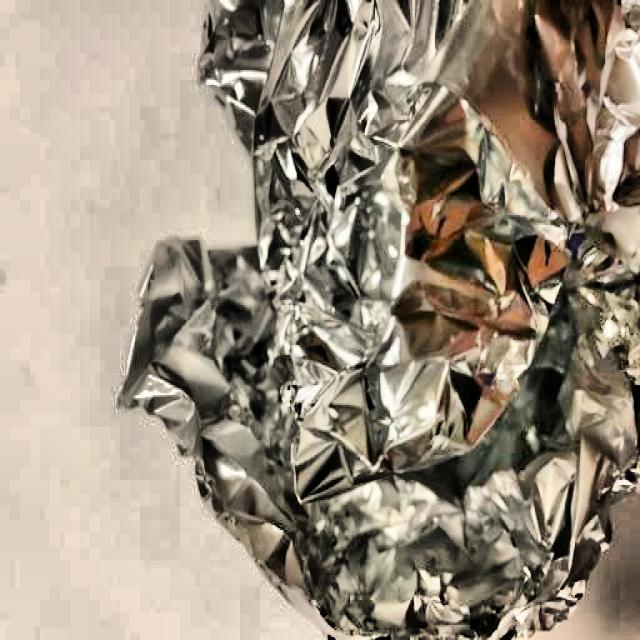metal: (112, 1, 638, 640)
